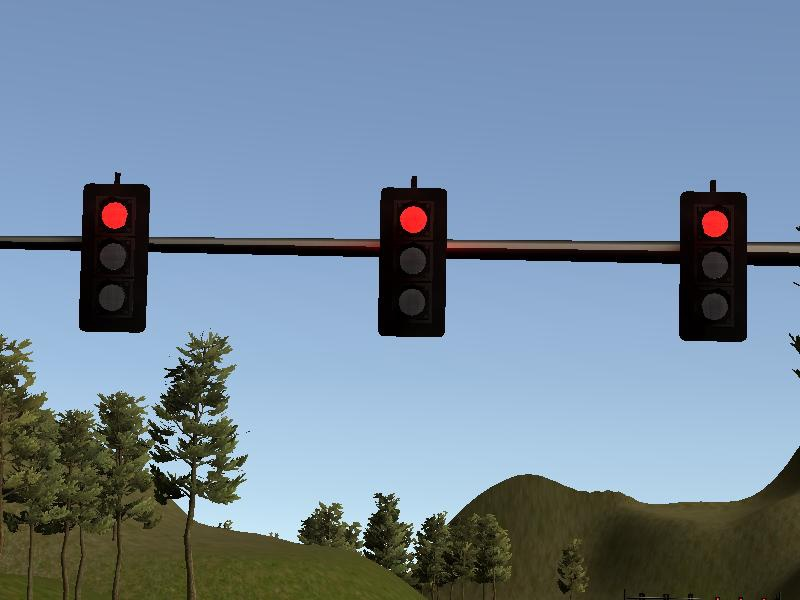Red: (373, 186, 448, 339), (76, 183, 151, 336), (675, 191, 748, 342)
